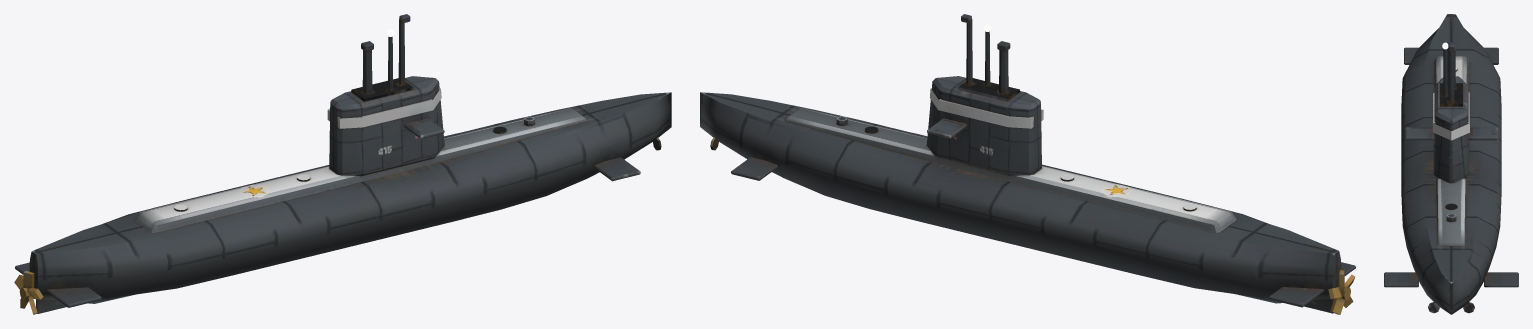
File: ss.soviet.glb
The picture shows the model from 3 angles, left to right: view 1: azimuth 30°, elevation 25°; view 2: azimuth 150°, elevation 25°; view 3: azimuth 270°, elevation 25°; orthographic projection. The views are drawn at different scales.
Visible parts, largest first — view 1: hull_mesh, masts_mesh, prop_mesh; view 2: hull_mesh, masts_mesh, prop_mesh; view 3: hull_mesh, masts_mesh.
Boxes of the visible parts, box(x1,y1,x2,y2) form: hull_mesh: box(15, 76, 671, 313); masts_mesh: box(361, 14, 410, 93); prop_mesh: box(14, 271, 43, 314); hull_mesh: box(700, 76, 1355, 313); masts_mesh: box(961, 14, 1010, 93); prop_mesh: box(1328, 270, 1355, 314); hull_mesh: box(1384, 14, 1518, 314); masts_mesh: box(1442, 42, 1455, 103).
Bounding box in the file's own units: 1.32 × 0.416 × 0.27.
Materials: 2 (1 with a texture image).
